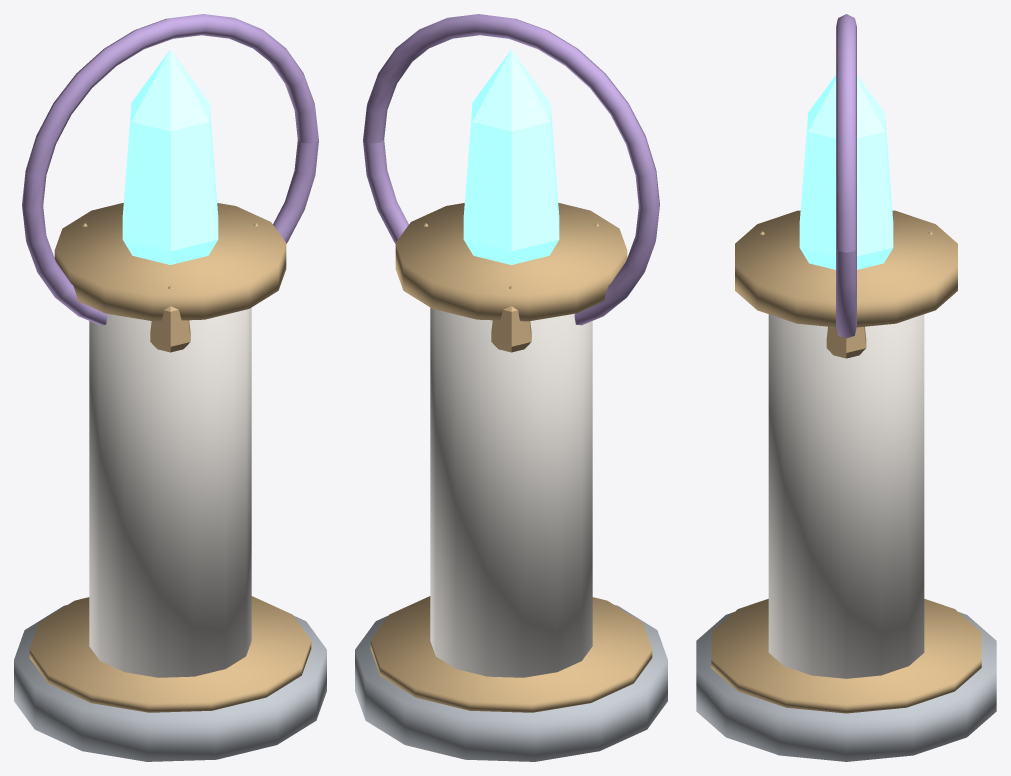
Rendered from int_checkpoint_spire.glb.
3 views of the same model, side by side, from view 1: azimuth 30°, elevation 25°; view 2: azimuth 150°, elevation 25°; view 3: azimuth 270°, elevation 25° (orthographic).
Parts seen in each view (by area): view 1: INT_checkpoint_spire_shaft, INT_checkpoint_spire_rim, INT_checkpoint_spire_base, INT_checkpoint_spire_light, INT_checkpoint_spire_gold, INT_checkpoint_spire_rotor, INT_checkpoint_spire_short_orb_2; view 2: INT_checkpoint_spire_shaft, INT_checkpoint_spire_rim, INT_checkpoint_spire_base, INT_checkpoint_spire_light, INT_checkpoint_spire_gold, INT_checkpoint_spire_rotor, INT_checkpoint_spire_short_orb_1; view 3: INT_checkpoint_spire_shaft, INT_checkpoint_spire_base, INT_checkpoint_spire_rim, INT_checkpoint_spire_gold, INT_checkpoint_spire_light, INT_checkpoint_spire_rotor, INT_checkpoint_spire_short_orb_0.
Part boxes in pixels (left/top/right/bottom): INT_checkpoint_spire_shaft: left=89, top=307, right=251, bottom=677; INT_checkpoint_spire_rim: left=54, top=203, right=286, bottom=321; INT_checkpoint_spire_base: left=14, top=605, right=326, bottom=761; INT_checkpoint_spire_light: left=122, top=49, right=218, bottom=264; INT_checkpoint_spire_gold: left=29, top=596, right=311, bottom=712; INT_checkpoint_spire_rotor: left=22, top=14, right=318, bottom=325; INT_checkpoint_spire_short_orb_2: left=150, top=286, right=190, bottom=352; INT_checkpoint_spire_shaft: left=430, top=307, right=592, bottom=677; INT_checkpoint_spire_rim: left=395, top=203, right=627, bottom=321; INT_checkpoint_spire_base: left=355, top=605, right=667, bottom=761; INT_checkpoint_spire_light: left=463, top=49, right=559, bottom=264; INT_checkpoint_spire_gold: left=370, top=596, right=652, bottom=712; INT_checkpoint_spire_rotor: left=363, top=14, right=659, bottom=325; INT_checkpoint_spire_short_orb_1: left=491, top=286, right=531, bottom=352; INT_checkpoint_spire_shaft: left=768, top=314, right=924, bottom=678; INT_checkpoint_spire_base: left=696, top=612, right=996, bottom=761; INT_checkpoint_spire_rim: left=735, top=210, right=957, bottom=327; INT_checkpoint_spire_gold: left=711, top=599, right=981, bottom=713; INT_checkpoint_spire_light: left=799, top=75, right=893, bottom=269; INT_checkpoint_spire_rotor: left=836, top=14, right=856, bottom=338; INT_checkpoint_spire_short_orb_0: left=826, top=326, right=866, bottom=358.
Size of the model in its own units: 1.18 by 2.58 by 1.05.
